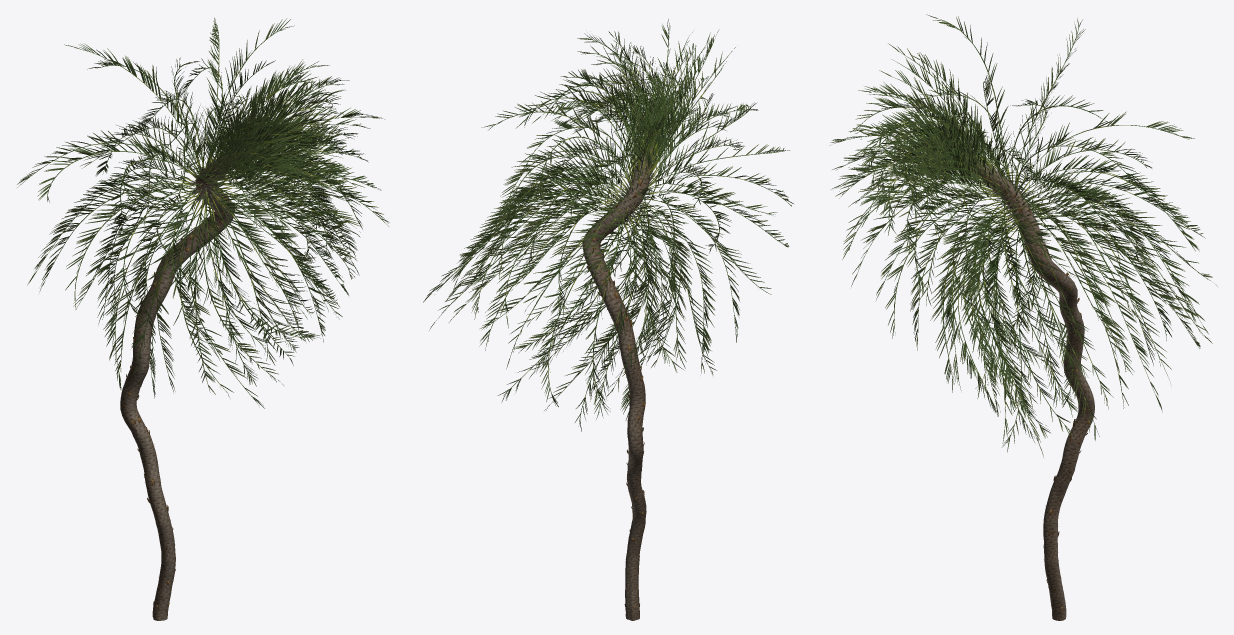
Rendered from macrozamia_moorei_palm_tall02.gltf.
The picture shows the model from 3 angles, left to right: view 1: azimuth 30°, elevation 25°; view 2: azimuth 150°, elevation 25°; view 3: azimuth 270°, elevation 25°; orthographic projection. The views are drawn at different scales.
Visible parts, largest first — view 1: Macrozamia_Moorei_Palm_Tall02; view 2: Macrozamia_Moorei_Palm_Tall02; view 3: Macrozamia_Moorei_Palm_Tall02.
Boxes of the visible parts, x1=… form: Macrozamia_Moorei_Palm_Tall02: x1=17, y1=18, x2=389, y2=620; Macrozamia_Moorei_Palm_Tall02: x1=423, y1=19, x2=793, y2=620; Macrozamia_Moorei_Palm_Tall02: x1=830, y1=14, x2=1217, y2=620.
Size of the model in its own units: 2.55 by 4.23 by 2.57.
5 materials, 5 textured.
